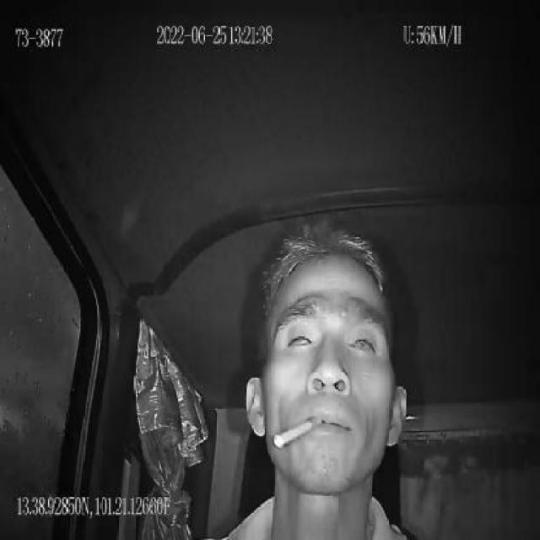smoking: (271, 417, 322, 448)
